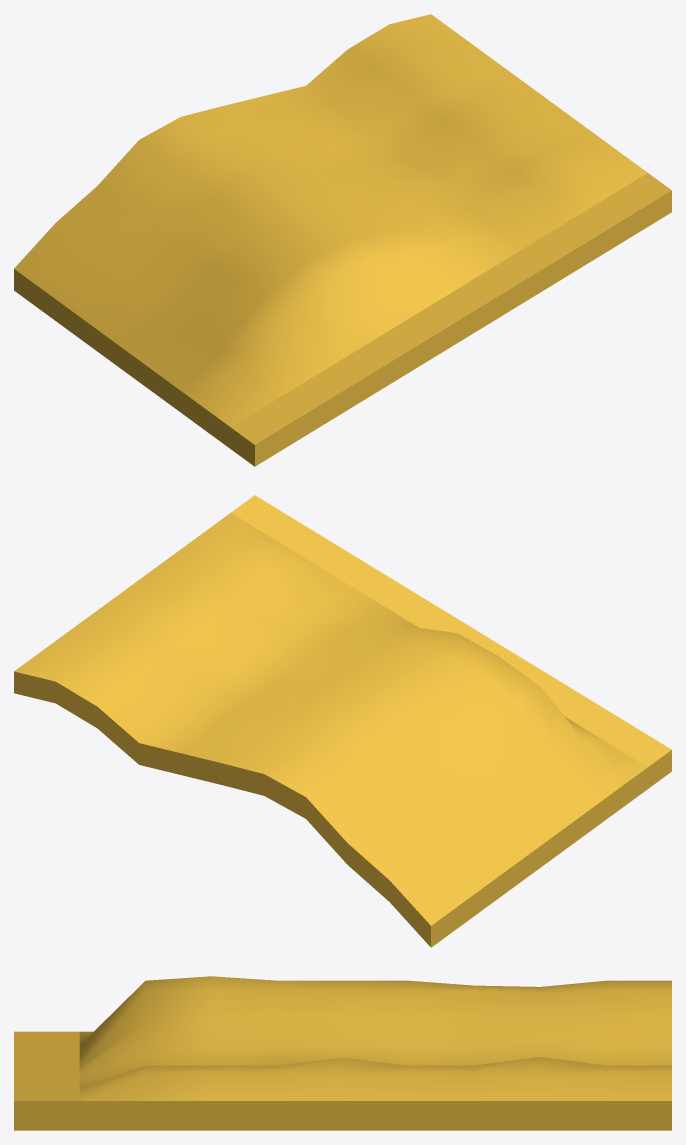
File: Flach - Mitte - Hügle b - x.fbx
3 renders of one model, top to bottom at view 1: azimuth 30°, elevation 25°; view 2: azimuth 150°, elevation 25°; view 3: azimuth 270°, elevation 25°, orthographic. The views are drawn at different scales.
Parts seen in each view (by area): view 1: Flach - Mitte - Hügle b - x; view 2: Flach - Mitte - Hügle b - x; view 3: Flach - Mitte - Hügle b - x.
Boxes of the visible parts, left/top/right/bottom form: Flach - Mitte - Hügle b - x: left=14, top=14, right=671, bottom=466; Flach - Mitte - Hügle b - x: left=14, top=495, right=671, bottom=947; Flach - Mitte - Hügle b - x: left=14, top=976, right=671, bottom=1130.
Bounding box in the file's own units: 394 × 157 × 394.
